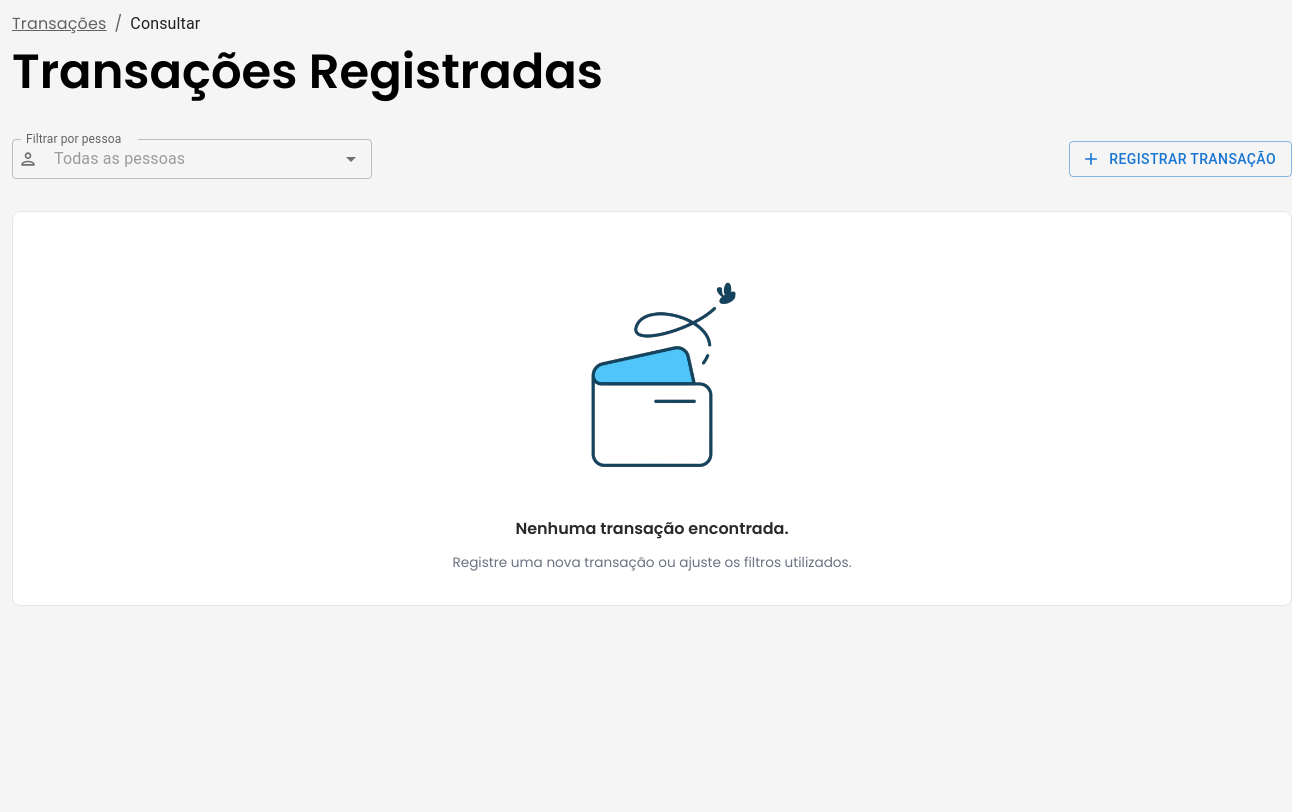
TransactionsConsultPage › filtra transacoes por pessoa selecionada
Click the dropdown labelled "Filtrar por pessoa" at {"x": 190, "y": 159}, box [46,145,333,173]
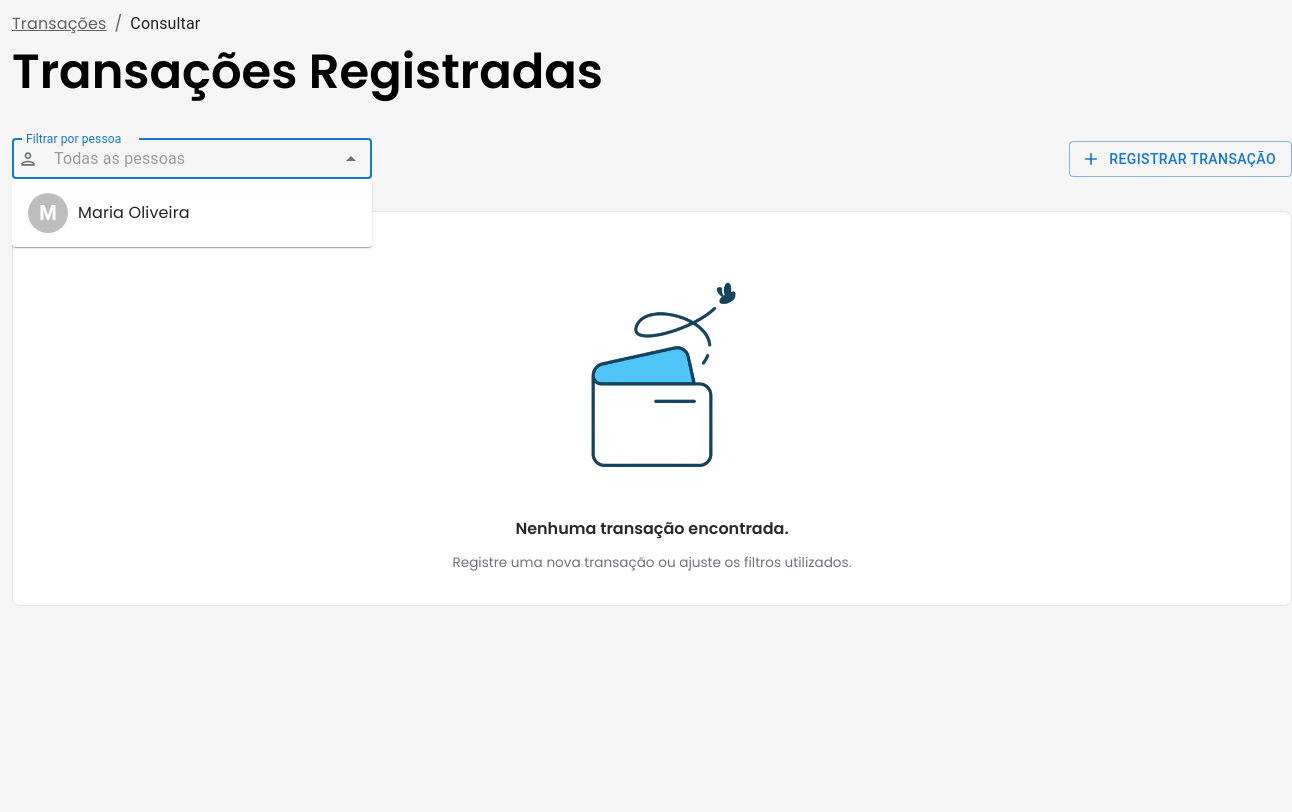
Click the option "M Maria Oliveira" at {"x": 109, "y": 213}, box [28,193,190,233]
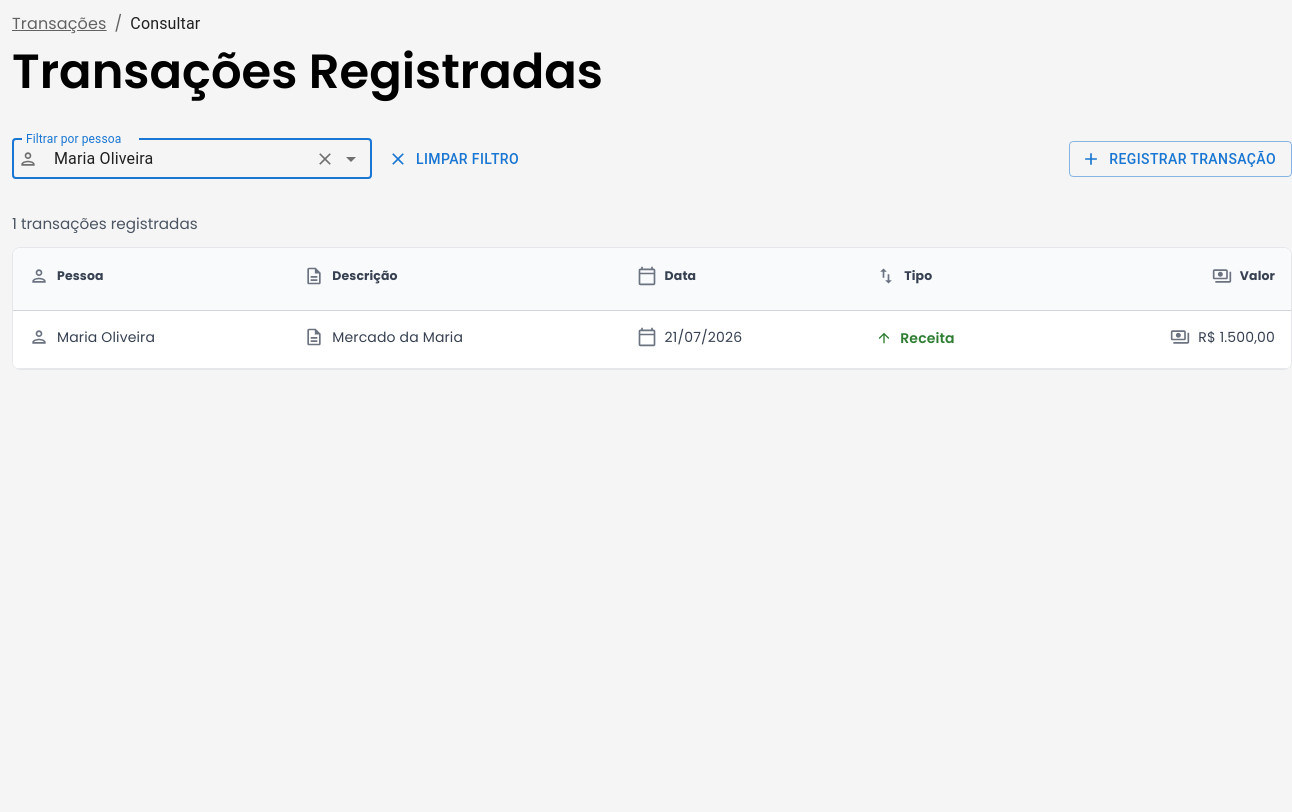
Expected: the text "Mercado da Maria" is shown, [332,327,463,347]
